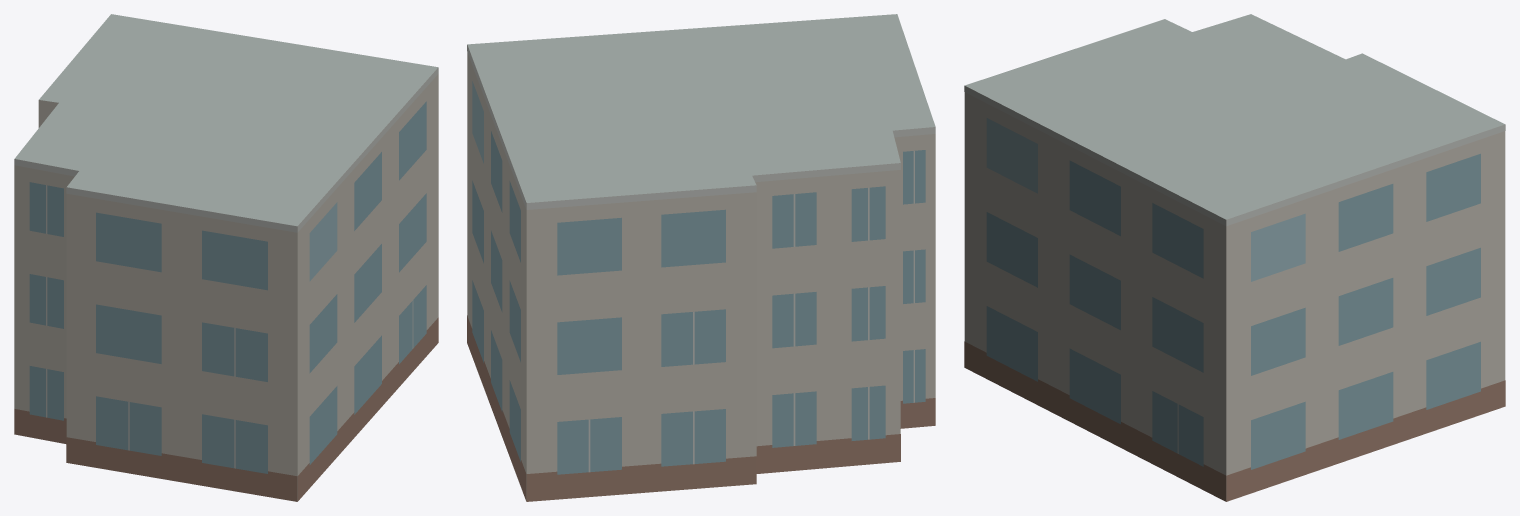
The model's file is survey-upis-32860589.glb.
3 renders of one model, left to right at view 1: azimuth 30°, elevation 25°; view 2: azimuth 150°, elevation 25°; view 3: azimuth 270°, elevation 25°, orthographic. The views are drawn at different scales.
Parts seen in each view (by area): view 1: survey-upis-32860589.tmp; view 2: survey-upis-32860589.tmp; view 3: survey-upis-32860589.tmp.
Boxes of the visible parts, left/top/right/bottom form: survey-upis-32860589.tmp: left=14, top=14, right=438, bottom=501; survey-upis-32860589.tmp: left=467, top=14, right=935, bottom=501; survey-upis-32860589.tmp: left=964, top=14, right=1505, bottom=501.
Size of the model in its own units: 16.5 by 10.54 by 18.32.
